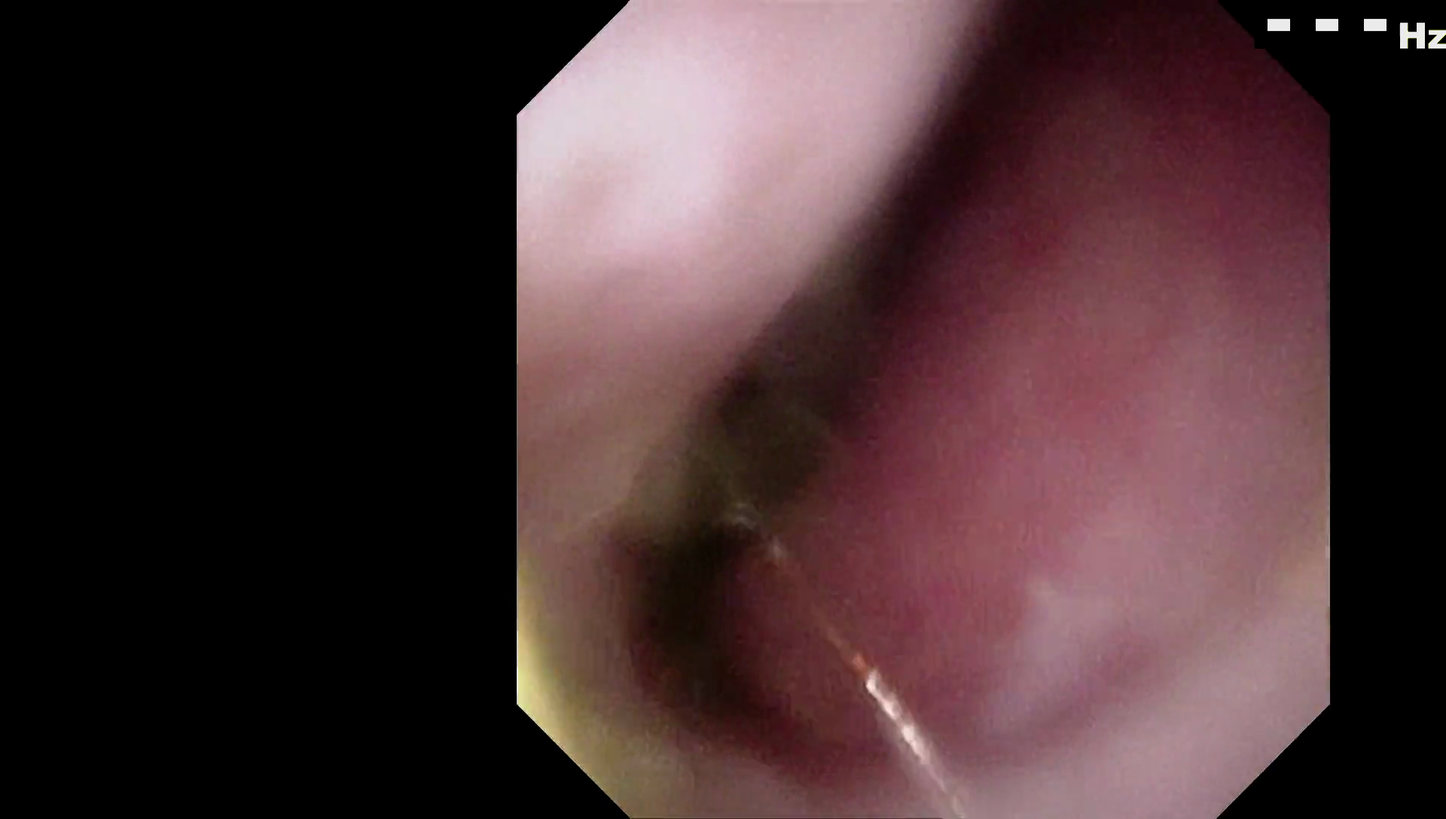close_wall: (559, 78, 822, 299)
next: (836, 11, 1114, 388), (615, 491, 839, 759)
